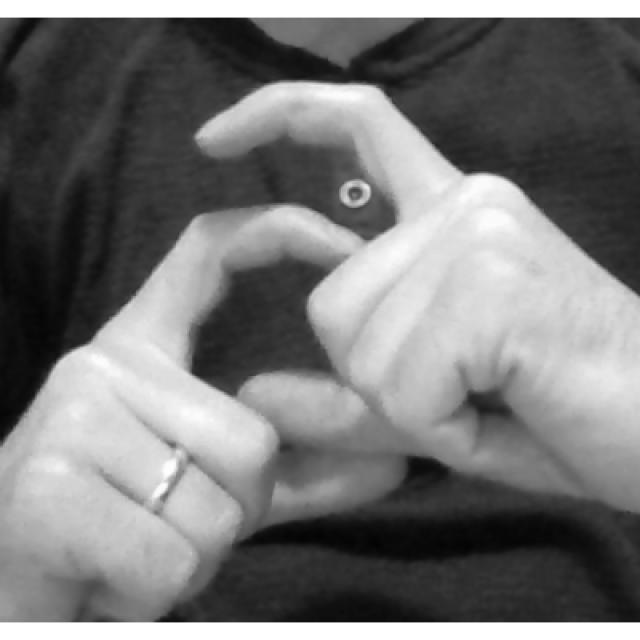G-: (0, 79, 639, 624)
